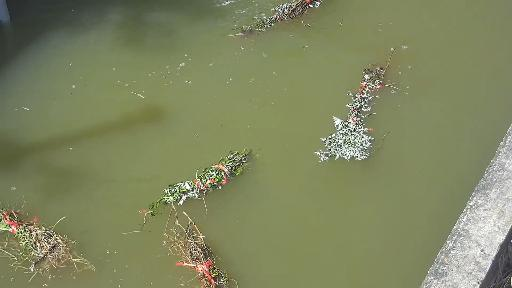twig: (117, 130, 252, 238), (311, 44, 405, 163), (1, 189, 98, 288), (154, 219, 242, 288), (227, 0, 330, 41)
